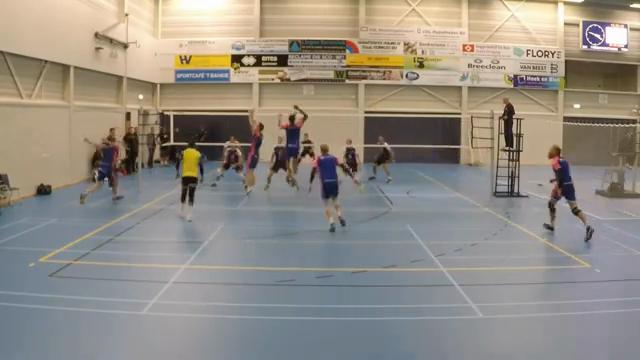alzata: (238, 104, 265, 200)
